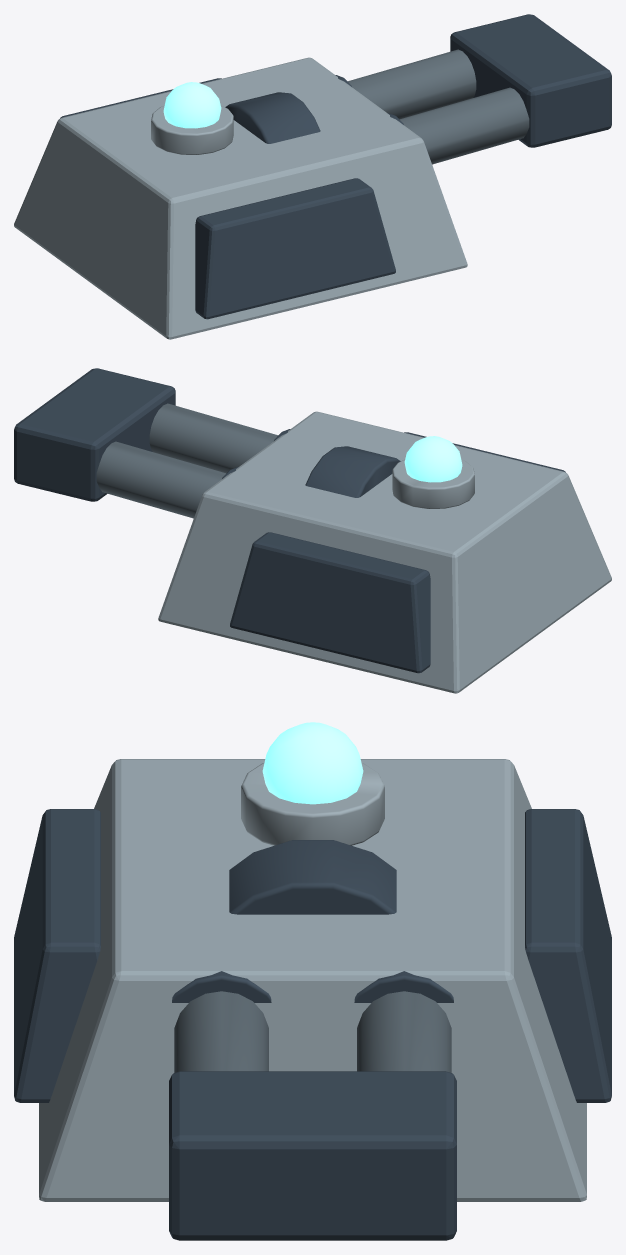
The model's file is SM_Anvil_Weapon.fbx.
The picture shows the model from 3 angles, top to bottom: view 1: azimuth 30°, elevation 25°; view 2: azimuth 150°, elevation 25°; view 3: azimuth 270°, elevation 25°; orthographic projection. The views are drawn at different scales.
Parts seen in each view (by area): view 1: SM_Anvil_Weapon; view 2: SM_Anvil_Weapon; view 3: SM_Anvil_Weapon.
Part boxes in pixels (<box>): SM_Anvil_Weapon: <box>14,14,611,339</box>; SM_Anvil_Weapon: <box>14,368,611,693</box>; SM_Anvil_Weapon: <box>14,722,611,1240</box>.
Size of the model in its own units: 42.84 by 26.15 by 14.79.
